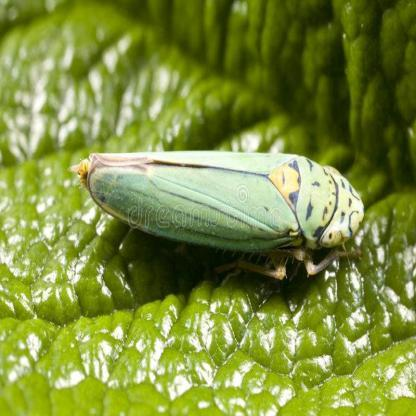green-leafhopper: (80, 146, 369, 277)
